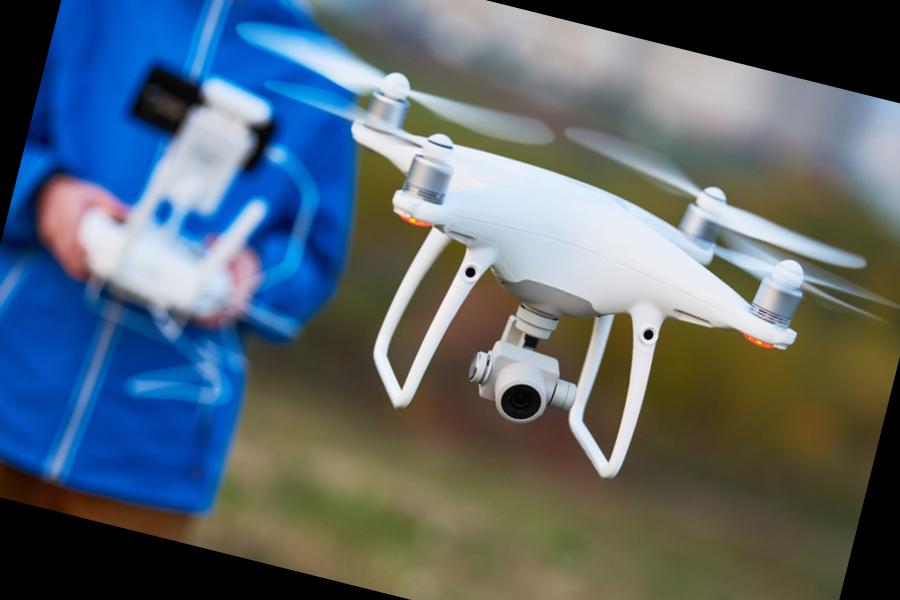drone: (194, 21, 900, 414)
